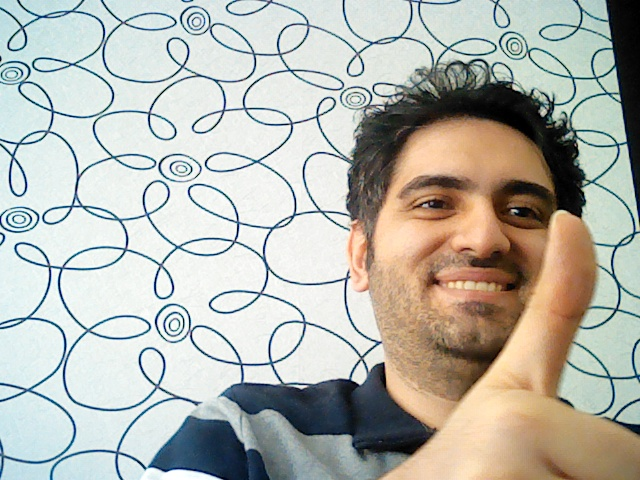ThumbUp: (349, 201, 640, 480)
